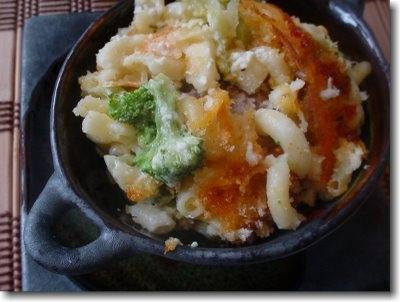broccoli: (106, 79, 158, 144)
